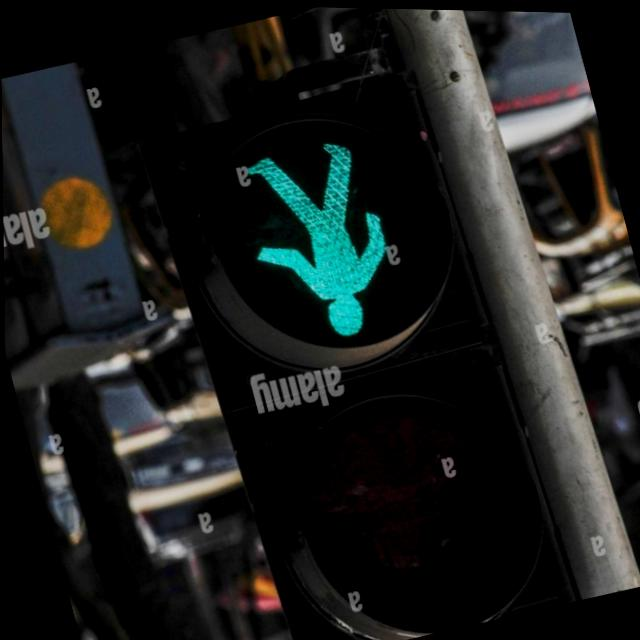green_light: (240, 119, 404, 354)
